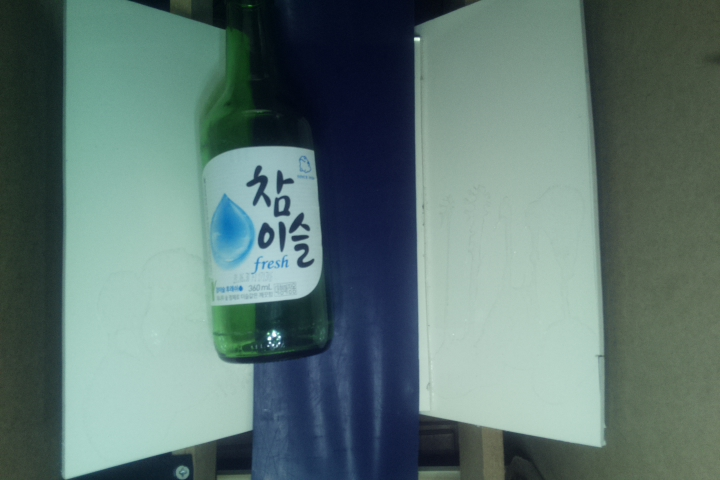soju: (200, 1, 334, 366)
